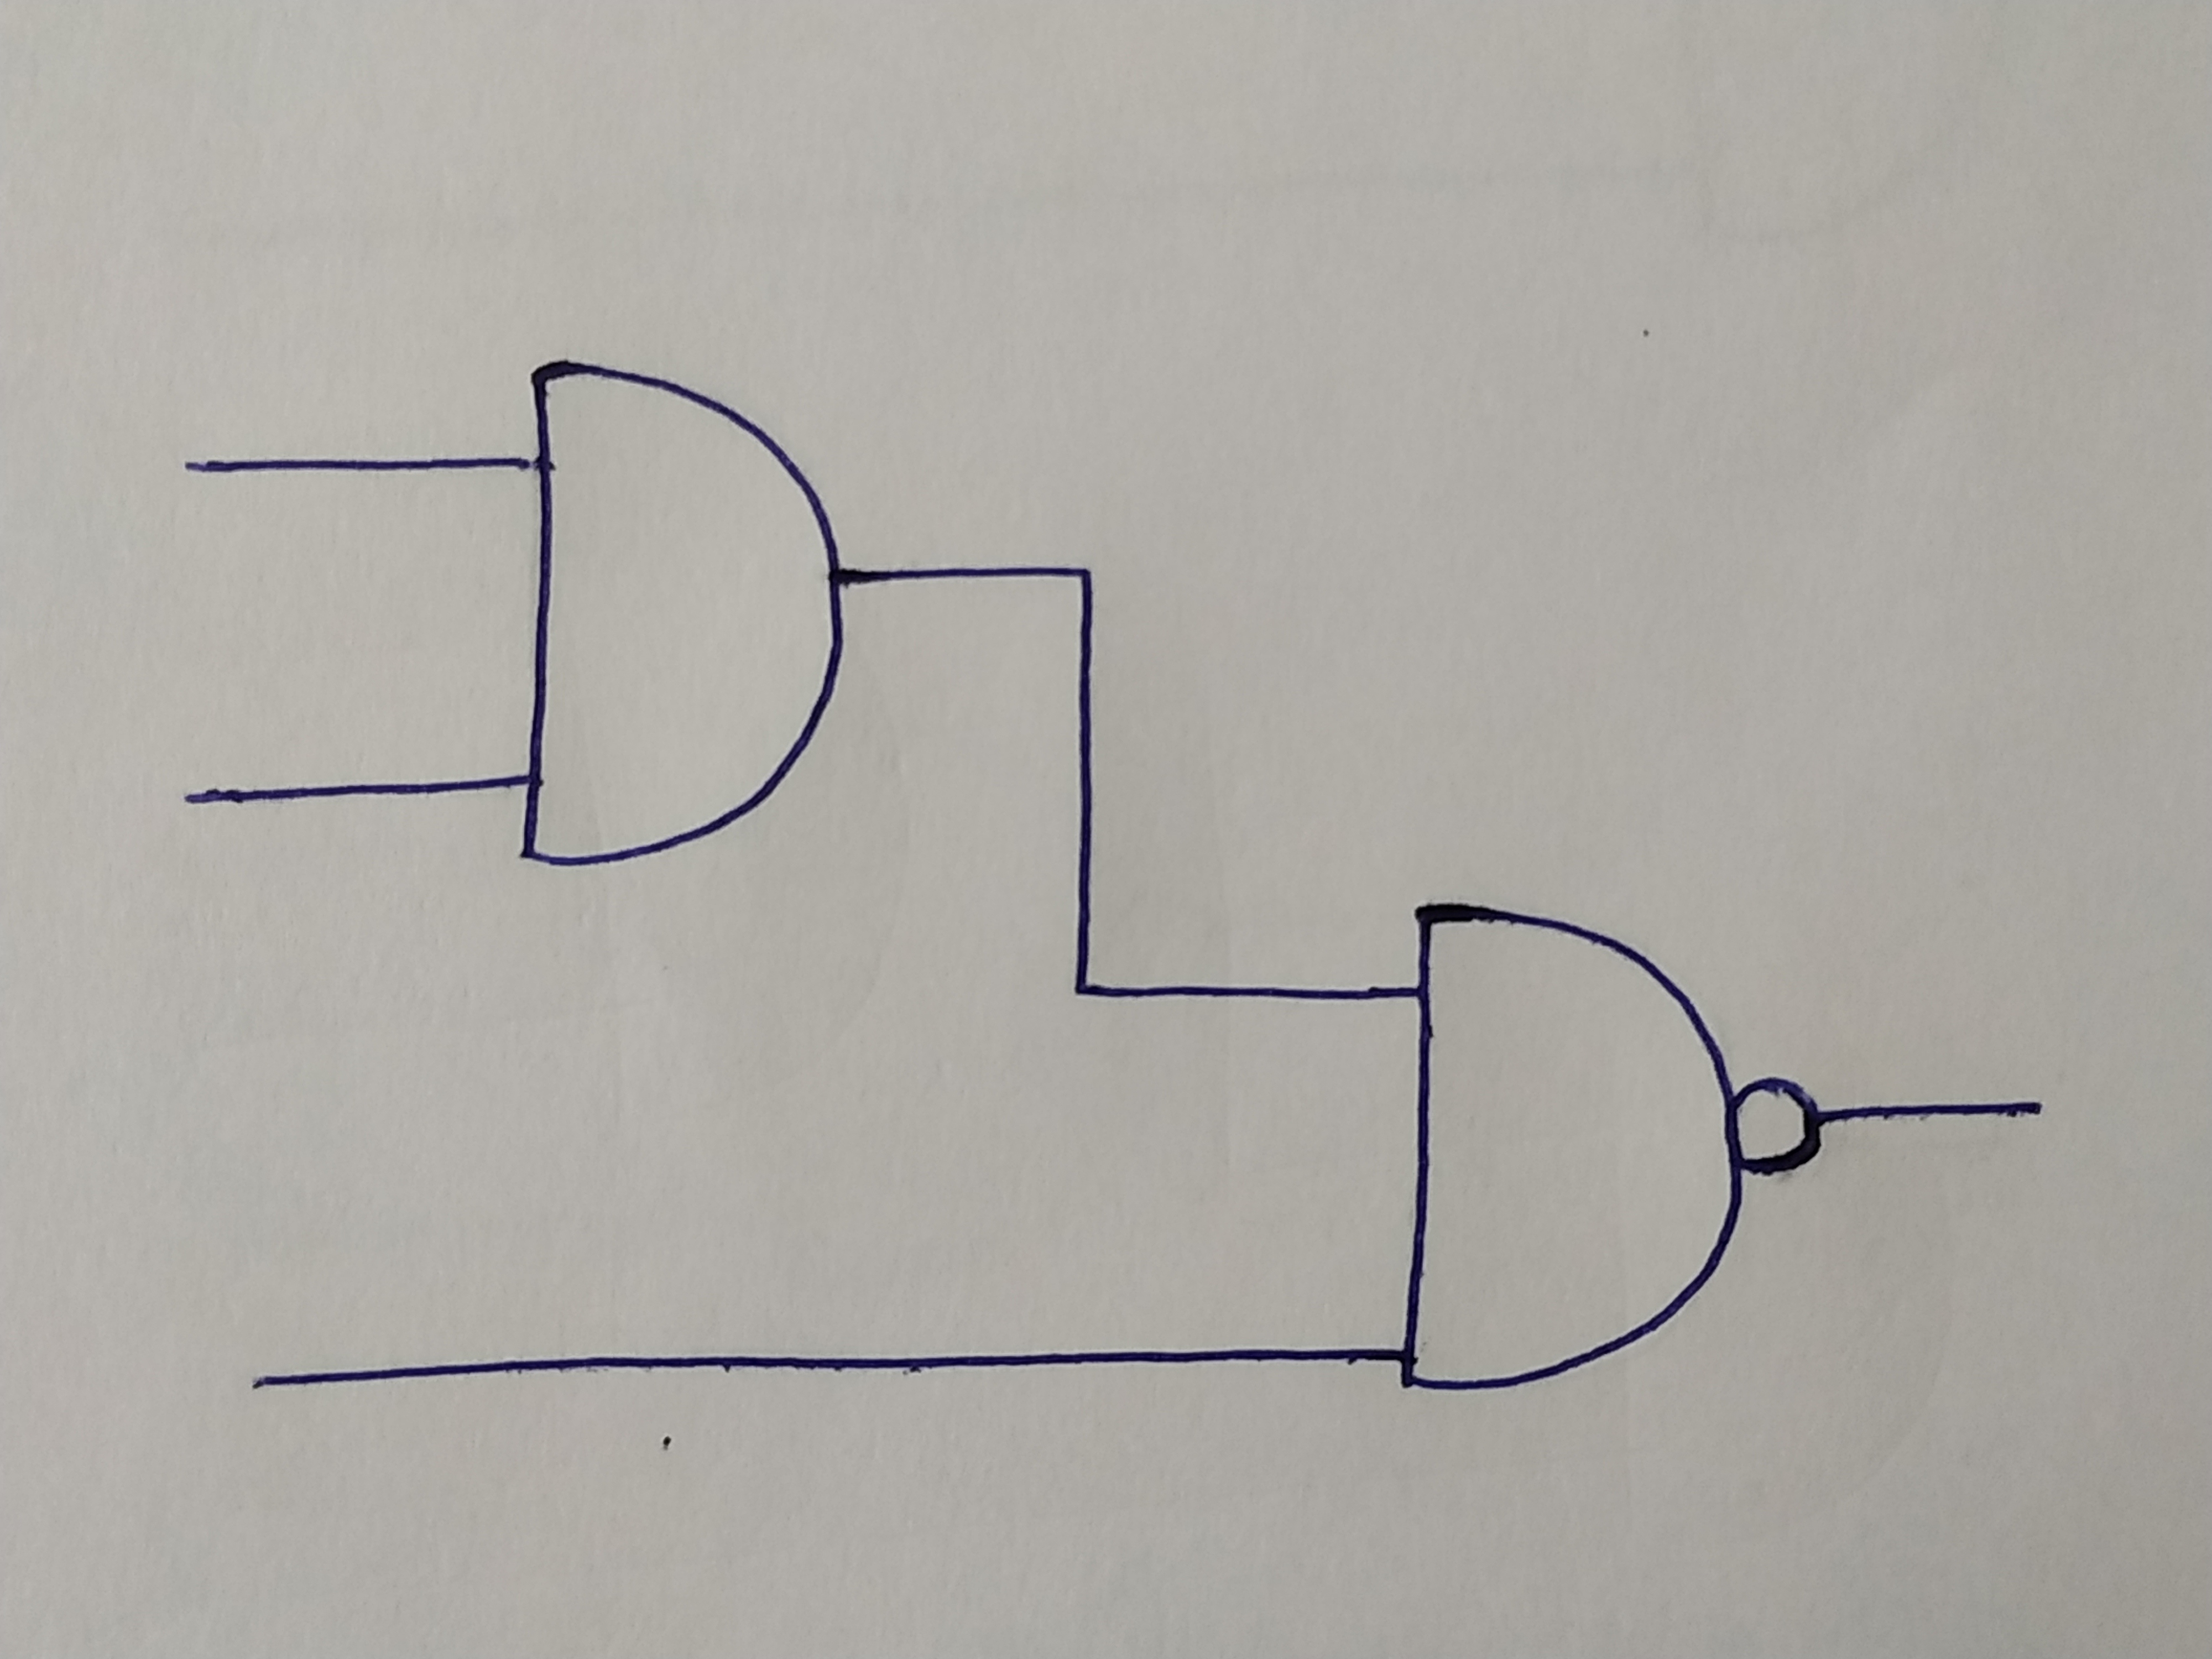and: (524, 357, 841, 875), (1409, 904, 1735, 1394)
not: (1738, 1077, 1818, 1171)
